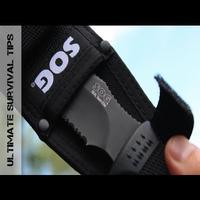knife: (34, 44, 185, 172)
